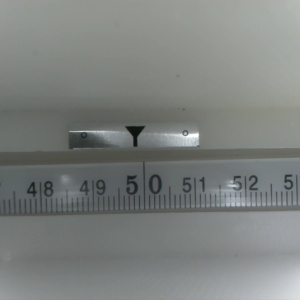0: (148, 174, 162, 194)
1: (198, 177, 204, 192)
2: (247, 175, 257, 190)
4: (79, 179, 90, 195), (26, 181, 37, 196)
5: (126, 174, 138, 194), (230, 176, 240, 191), (283, 175, 293, 190), (182, 177, 191, 192)
8: (42, 181, 53, 197)
9: (95, 179, 106, 195)
finger: (123, 126, 145, 148)
